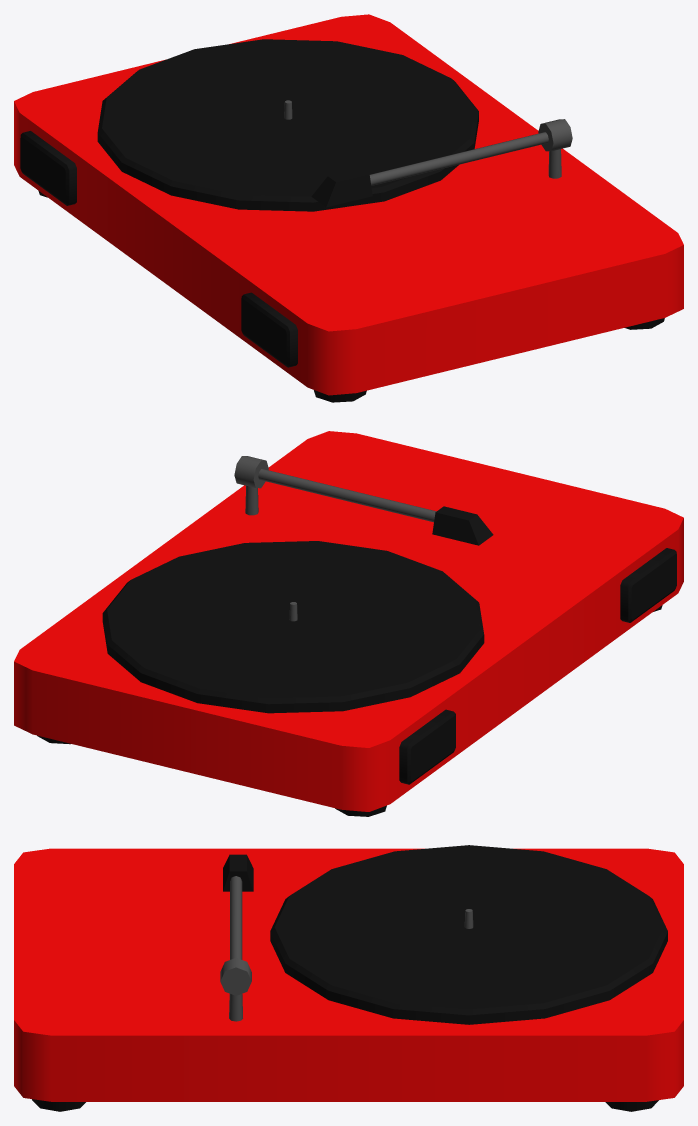
The model's file is vinylplayer.FBX.
3 views of the same model, one above another, from view 1: azimuth 30°, elevation 25°; view 2: azimuth 150°, elevation 25°; view 3: azimuth 270°, elevation 25° (orthographic). The views are drawn at different scales.
Visible parts, largest first — view 1: VinylPlayer, VinylPlayer_Arm; view 2: VinylPlayer, VinylPlayer_Arm; view 3: VinylPlayer, VinylPlayer_Arm.
Part boxes in pixels (left/top/right/bottom): VinylPlayer: left=14, top=14, right=683, bottom=402; VinylPlayer_Arm: left=311, top=119, right=572, bottom=207; VinylPlayer: left=14, top=431, right=683, bottom=816; VinylPlayer_Arm: left=234, top=456, right=493, bottom=545; VinylPlayer: left=14, top=845, right=683, bottom=1111; VinylPlayer_Arm: left=220, top=854, right=253, bottom=995.
Bounding box in the file's own units: 21.9 × 7.38 × 32.28.
